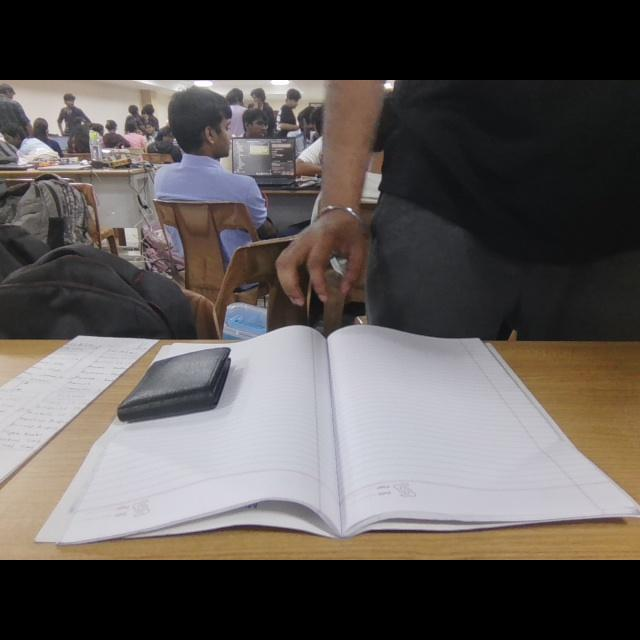wallet: (118, 346, 262, 432)
